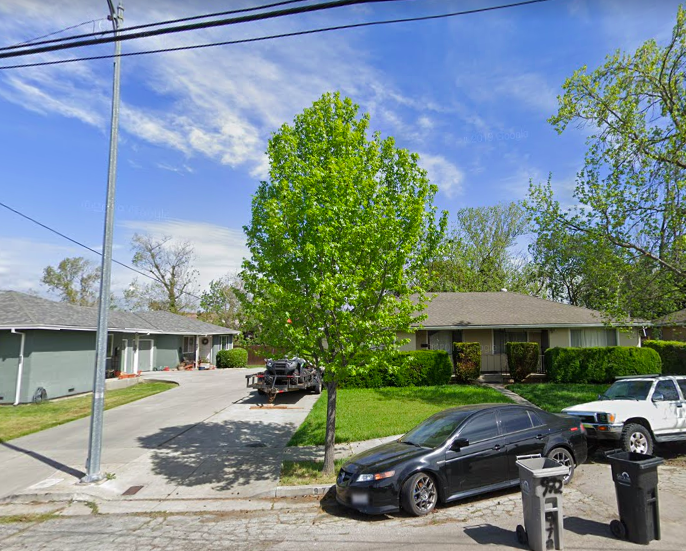tree: (231, 89, 453, 476)
